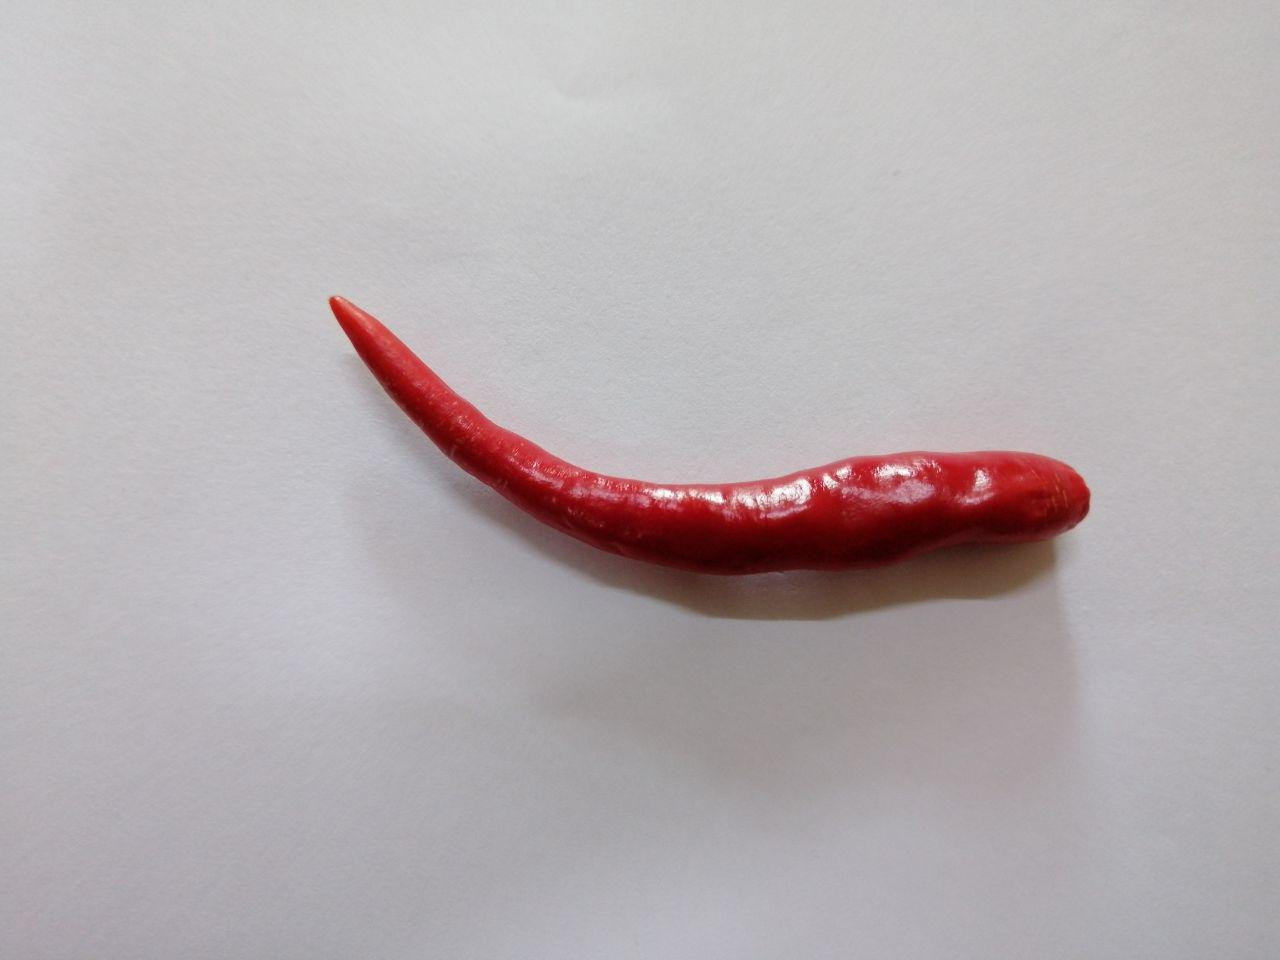lada merah: (297, 278, 1118, 628)
